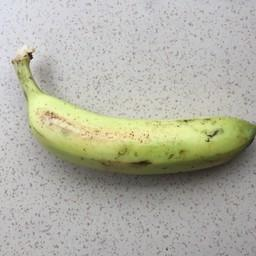Good_banana: (12, 48, 255, 183)
